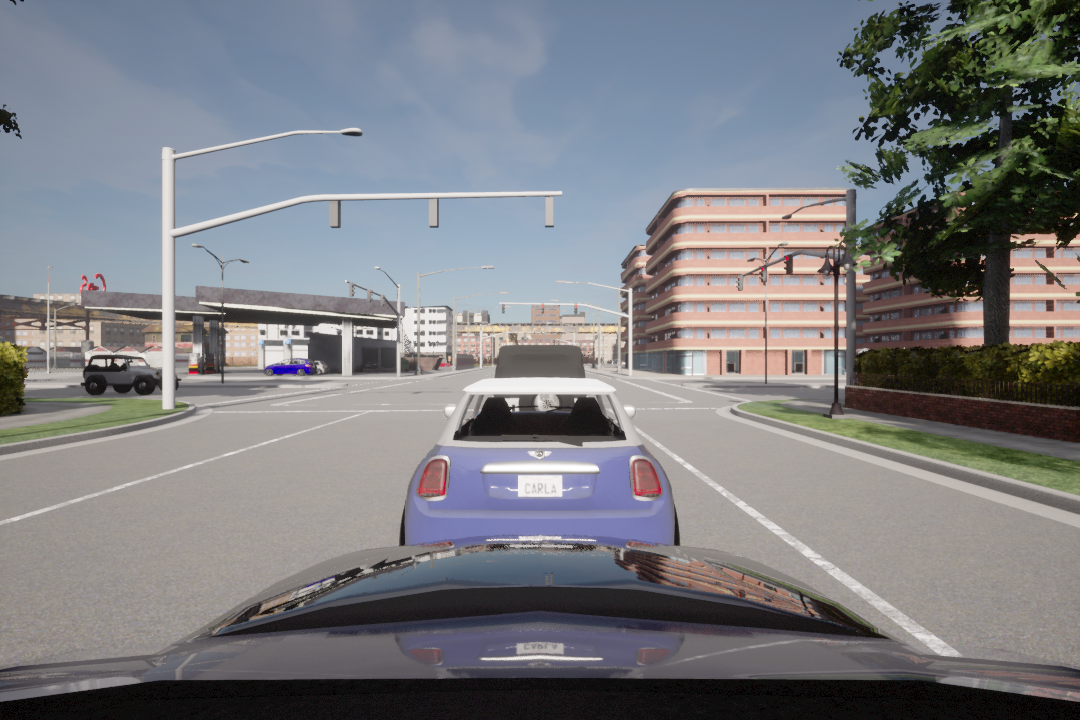TrafficLight: (784, 254, 796, 276), (756, 264, 769, 284), (732, 273, 744, 292), (365, 289, 375, 306), (348, 282, 358, 298), (381, 295, 388, 311), (538, 303, 546, 315), (499, 303, 507, 314), (573, 303, 578, 315)
